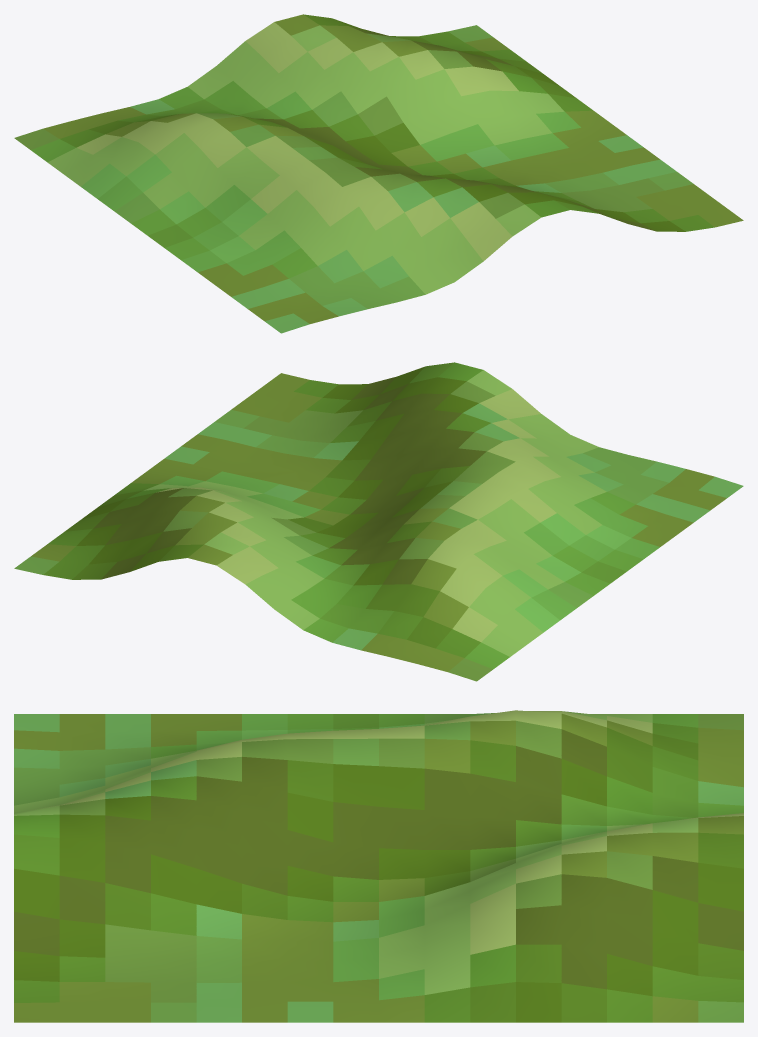
The model's file is hills5.obj.
3 views of the same model, one above another, from view 1: azimuth 30°, elevation 25°; view 2: azimuth 150°, elevation 25°; view 3: azimuth 270°, elevation 25° (orthographic). The views are drawn at different scales.
Visible parts, largest first — view 1: hills5; view 2: hills5; view 3: hills5.
Boxes of the visible parts, box(x1,y1,x2,y2) form: hills5: box(14, 14, 743, 333); hills5: box(14, 362, 743, 681); hills5: box(14, 710, 743, 1022).
Bounding box in the file's own units: 1 × 0.1133 × 1.
Materials: 1 (1 with a texture image).
